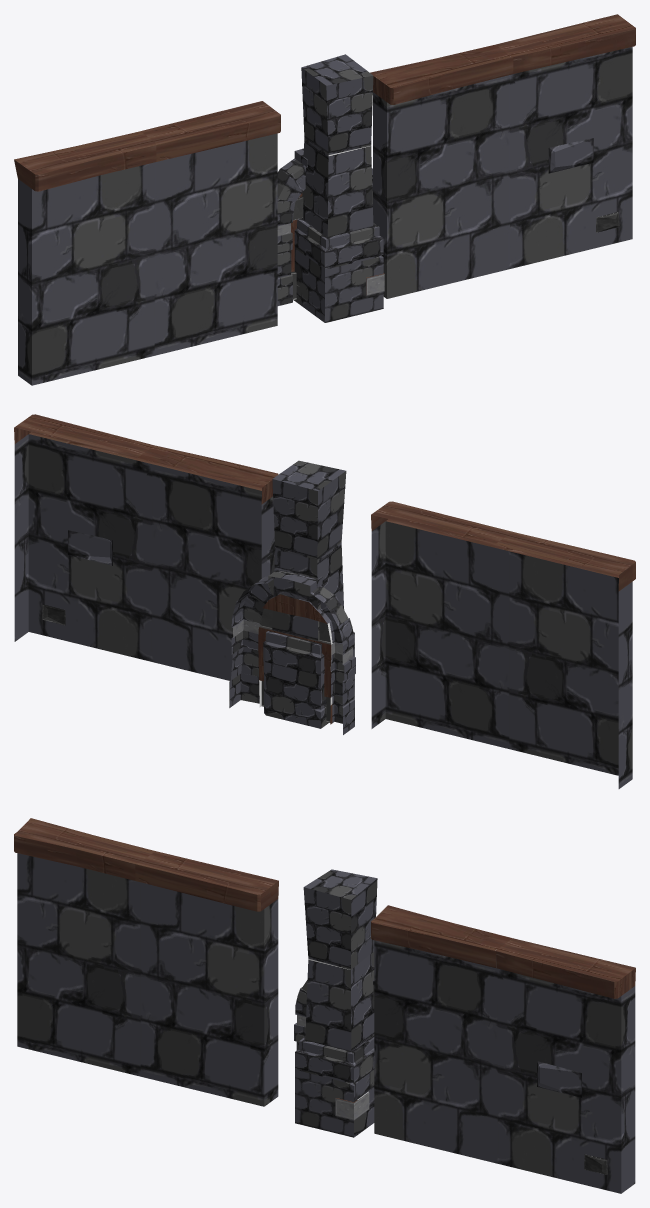
File: wall2.1.glb
3 views of the same model, one above another, from view 1: azimuth 30°, elevation 25°; view 2: azimuth 150°, elevation 25°; view 3: azimuth 330°, elevation 25° (orthographic).
Visible parts, largest first — view 1: StoneWall, Stonewall2, StonePillar, Doors; view 2: StoneWall, Stonewall2, StonePillar, Doors; view 3: StoneWall, Stonewall2, StonePillar, Doors.
Boxes of the visible parts, x1,y1,x2,y2 form: StoneWall: (14,101,280,385); Stonewall2: (370,14,635,298); StonePillar: (294,54,384,322); Doors: (277,148,372,305); StoneWall: (371,501,635,788); Stonewall2: (14,414,278,680); StonePillar: (263,460,354,728); Doors: (229,570,355,734); StoneWall: (14,818,278,1106); Stonewall2: (371,905,635,1193); StonePillar: (295,869,377,1137); Doors: (294,980,374,1050).
Bounding box in the file's own units: 88.74 × 32.89 × 9.96.
Materials: 1 (1 with a texture image).
